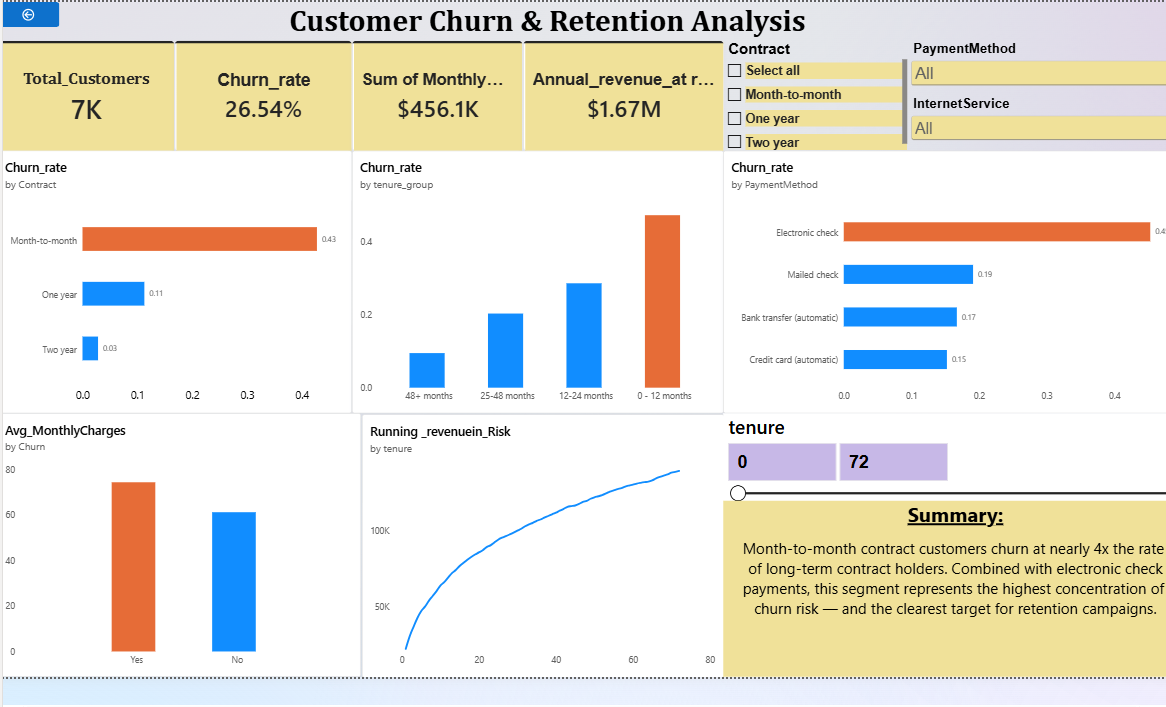

The dashboard page shown, as its layout file describes it:
{"tool":"powerbi","page":{"name":"Page 1","canvas":[1920,1080],"ordinal":0},"visuals":[{"type":"cardVisual","fields":{"Data":["telco_churn.Total_Customers"]},"box":[0,61.7,284,177],"z":0},{"type":"cardVisual","fields":{"Data":["telco_churn.Churn_rate"]},"box":[284,61.7,284,177],"z":1000},{"type":"cardVisual","fields":{"Data":["Sum(telco_churn.MonthlyCharges)"]},"box":[568.1,61.7,273.8,177],"z":2000},{"type":"cardVisual","fields":{"Data":["telco_churn.Annual_revenue_at risk"]},"box":[841.9,61.7,321.1,177],"z":3000},{"type":"clusteredBarChart","fields":{"Category":["telco_churn.Contract"],"Y":["telco_churn.Churn_rate"]},"box":[0,238.8,568.1,419.9],"z":4000},{"type":"actionButton","box":[0,0,100,40],"z":5000},{"type":"columnChart","fields":{"Category":["telco_churn.tenure_group"],"Y":["telco_churn.Churn_rate"]},"box":[568.1,238.8,594.9,419.9],"z":6000},{"type":"barChart","fields":{"Category":["telco_churn.PaymentMethod"],"Y":["telco_churn.Churn_rate"]},"box":[1163,238.8,757.5,419.9],"z":7000},{"type":"clusteredColumnChart","fields":{"Category":["telco_churn.Churn"],"Y":["telco_churn.Avg_MonthlyCharges"]},"box":[0,658.7,582.5,422],"z":8000},{"type":"lineChart","fields":{"Category":["telco_churn.tenure"],"Y":["telco_churn.Running _revenuein_Risk"]},"box":[583,659,580,421],"z":9000},{"type":"slicer","fields":{"Values":["telco_churn.Contract"]},"box":[1163,61.7,294.3,177],"z":10000},{"type":"slicer","fields":{"Values":["telco_churn.InternetService"]},"box":[1457.3,150.3,463.1,98.8],"z":11000},{"type":"slicer","fields":{"Values":["telco_churn.PaymentMethod"]},"box":[1457.3,61.7,463.1,88.5],"z":12000},{"type":"slicer","fields":{"Values":["telco_churn.tenure"]},"box":[1163,658.7,743.1,422],"z":13000},{"type":"textbox","box":[220.2,0,1321.4,61.7],"z":14000},{"type":"textbox","box":[1163,798.6,743.1,282],"z":15000}]}

Visuals, with their boxes on the page's 1920x1080 design canvas (x1, y1, x2, y2). These are canvas units, not pixel positions in the 1166x707 screenshot, which may show the page scaled, cropped or inside an application window:
cardVisual - telco_churn.Total_Customers: box(0, 62, 284, 239)
cardVisual - telco_churn.Churn_rate: box(284, 62, 568, 239)
cardVisual - Sum(telco_churn.MonthlyCharges): box(568, 62, 842, 239)
cardVisual - telco_churn.Annual_revenue_at risk: box(842, 62, 1163, 239)
clusteredBarChart - telco_churn.Contract x telco_churn.Churn_rate: box(0, 239, 568, 659)
actionButton: box(0, 0, 100, 40)
columnChart - telco_churn.tenure_group x telco_churn.Churn_rate: box(568, 239, 1163, 659)
barChart - telco_churn.PaymentMethod x telco_churn.Churn_rate: box(1163, 239, 1920, 659)
clusteredColumnChart - telco_churn.Churn x telco_churn.Avg_MonthlyCharges: box(0, 659, 582, 1081)
lineChart - telco_churn.tenure x telco_churn.Running _revenuein_Risk: box(583, 659, 1163, 1080)
slicer - telco_churn.Contract: box(1163, 62, 1457, 239)
slicer - telco_churn.InternetService: box(1457, 150, 1920, 249)
slicer - telco_churn.PaymentMethod: box(1457, 62, 1920, 150)
slicer - telco_churn.tenure: box(1163, 659, 1906, 1081)
textbox: box(220, 0, 1542, 62)
textbox: box(1163, 799, 1906, 1081)
